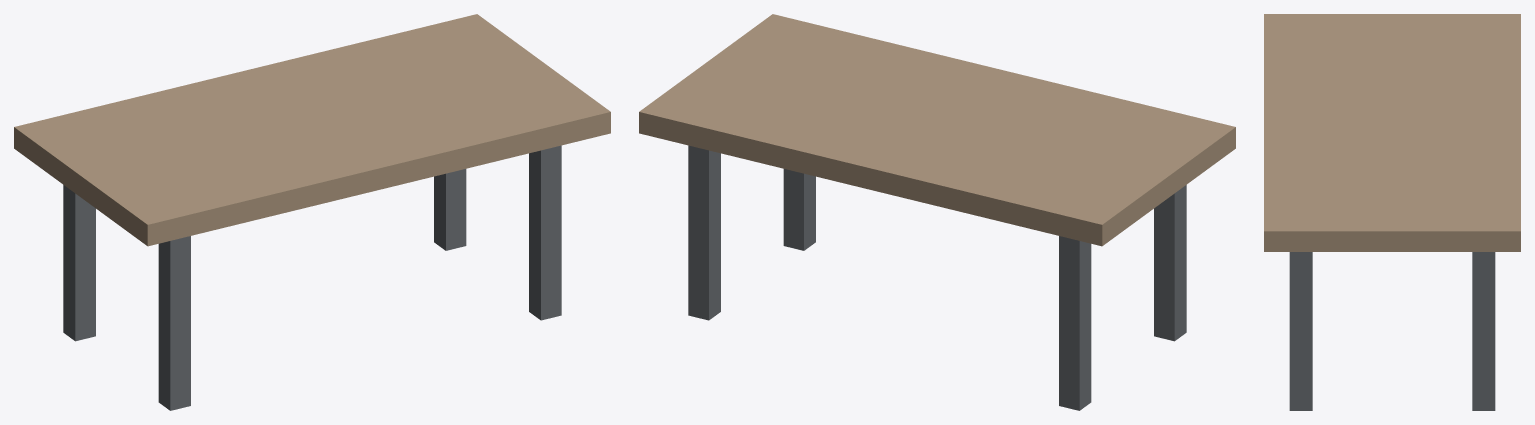
The model's file is dining-table-6.glb.
3 renders of one model, left to right at view 1: azimuth 30°, elevation 25°; view 2: azimuth 150°, elevation 25°; view 3: azimuth 270°, elevation 25°, orthographic. The views are drawn at different scales.
Visible parts, largest first — view 1: world; view 2: world; view 3: world.
Part boxes in pixels (x1,y1,x2,y2): world: [14, 14, 610, 410]; world: [639, 14, 1235, 410]; world: [1264, 14, 1520, 410].
Size of the model in its own units: 1.8 by 0.76 by 0.9.
